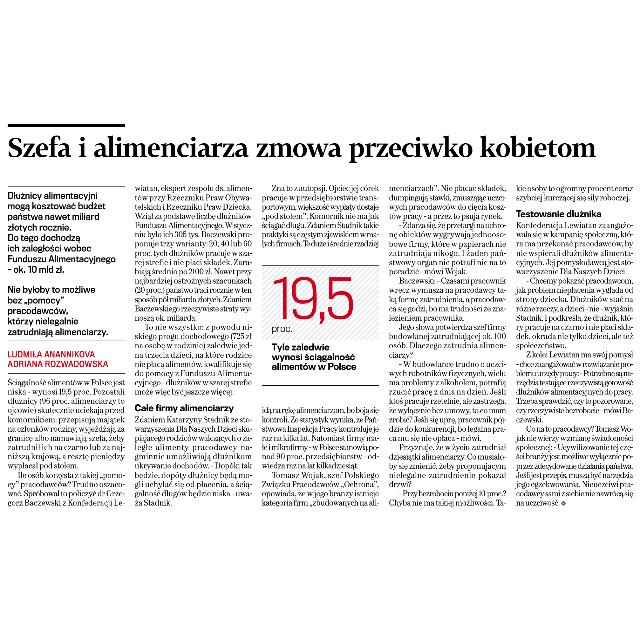author: (5, 346, 114, 372)
body: (513, 180, 637, 508), (388, 180, 510, 510), (132, 182, 254, 510), (3, 376, 126, 510), (258, 262, 382, 390), (258, 404, 382, 510), (258, 181, 382, 251)
lead: (4, 189, 126, 339)
title: (6, 128, 606, 168)
